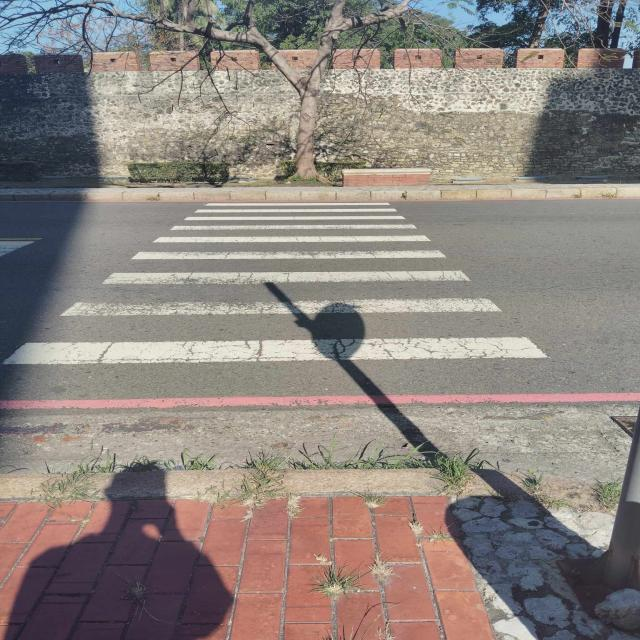zebra crossing: (7, 201, 559, 363)
